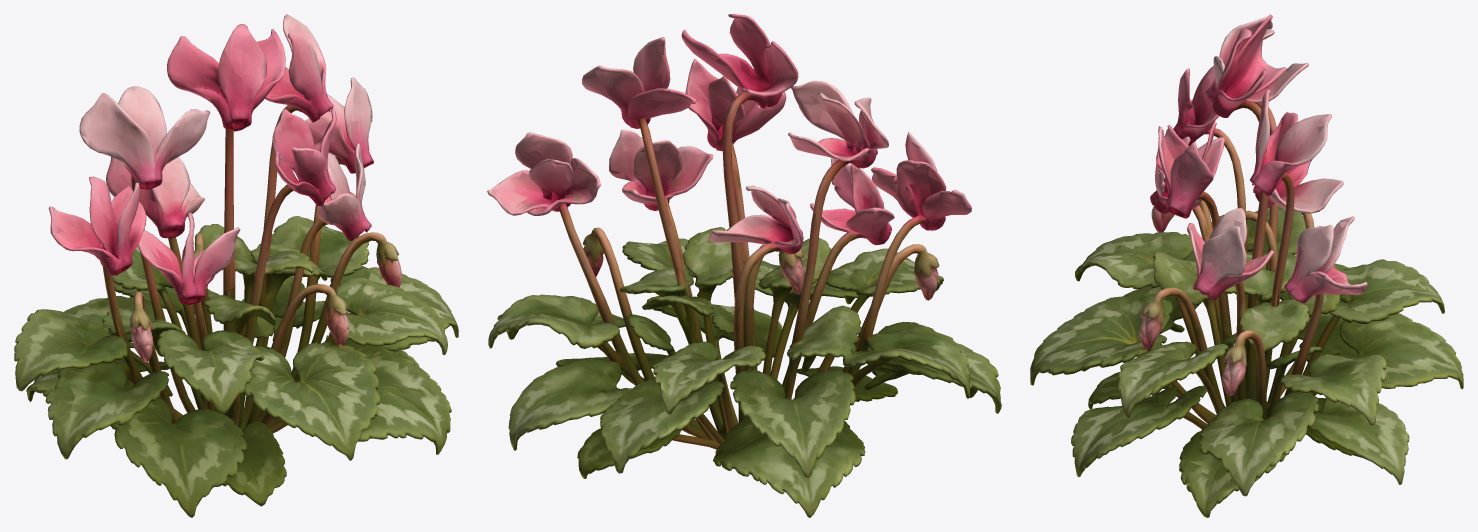
The model's file is cyclamen.glb.
3 views of the same model, side by side, from view 1: azimuth 30°, elevation 25°; view 2: azimuth 150°, elevation 25°; view 3: azimuth 270°, elevation 25° (orthographic). The views are drawn at different scales.
Visible parts, largest first — view 1: tripo_node_1915b62a; view 2: tripo_node_1915b62a; view 3: tripo_node_1915b62a.
Boxes of the visible parts, x1,y1,x2,y2 form: tripo_node_1915b62a: (14,14,458,517); tripo_node_1915b62a: (487,14,1001,517); tripo_node_1915b62a: (1030,14,1463,517).
Size of the model in its own units: 1.22 by 1.1 by 1.05.
Materials: 1 (1 with a texture image).
